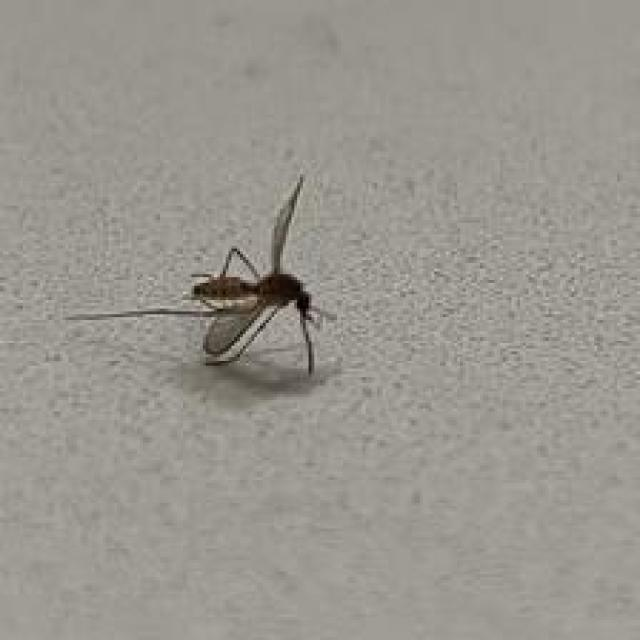Culex: (64, 172, 339, 377)
